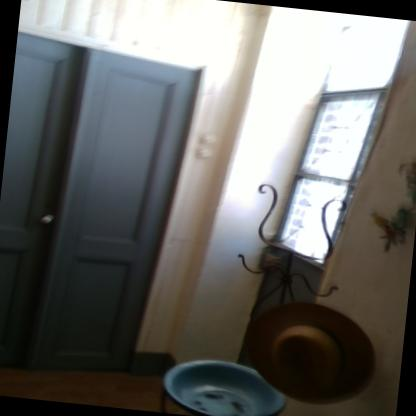closed: (0, 20, 209, 397)
